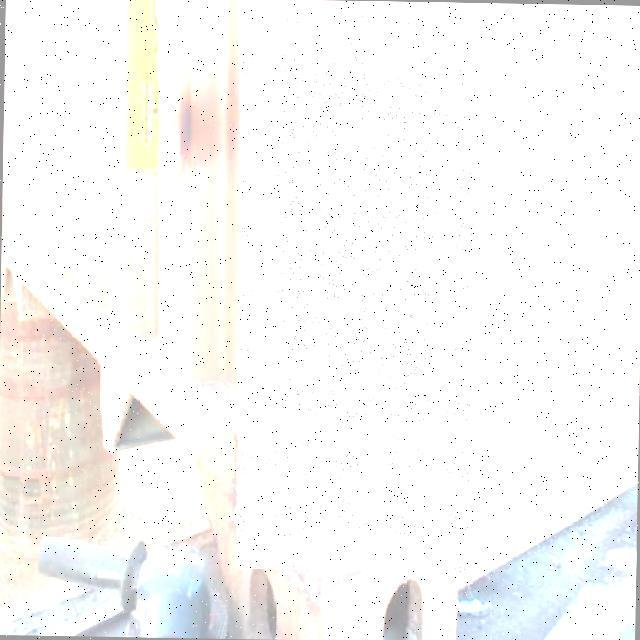Hole: (236, 50, 476, 572)
Rust: (242, 0, 476, 69)
